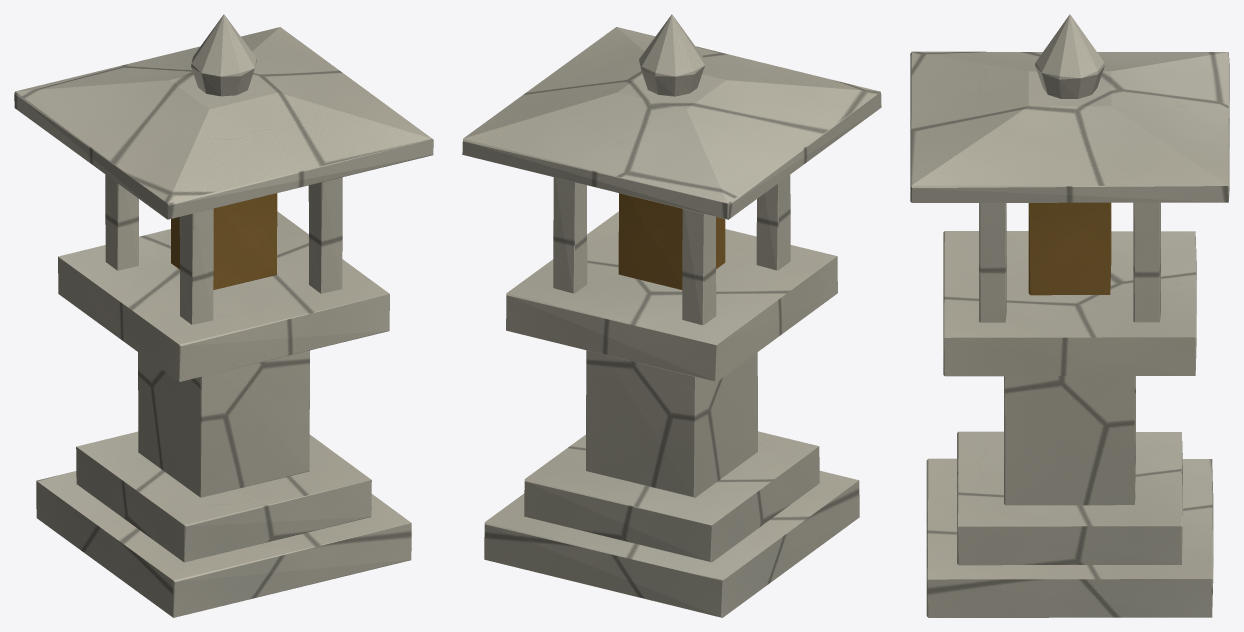
Rendered from a03_stone_lamp_lod1.fbx.
3 views of the same model, side by side, from view 1: azimuth 30°, elevation 25°; view 2: azimuth 150°, elevation 25°; view 3: azimuth 270°, elevation 25° (orthographic). The views are drawn at different scales.
Parts seen in each view (by area): view 1: a03_stone_lamp.004; view 2: a03_stone_lamp.004; view 3: a03_stone_lamp.004.
Boxes of the visible parts, x1,y1,x2,y2 form: a03_stone_lamp.004: (14, 14, 433, 617); a03_stone_lamp.004: (462, 14, 881, 617); a03_stone_lamp.004: (910, 14, 1229, 617).
Bounding box in the file's own units: 11600 × 11600 × 21781.
